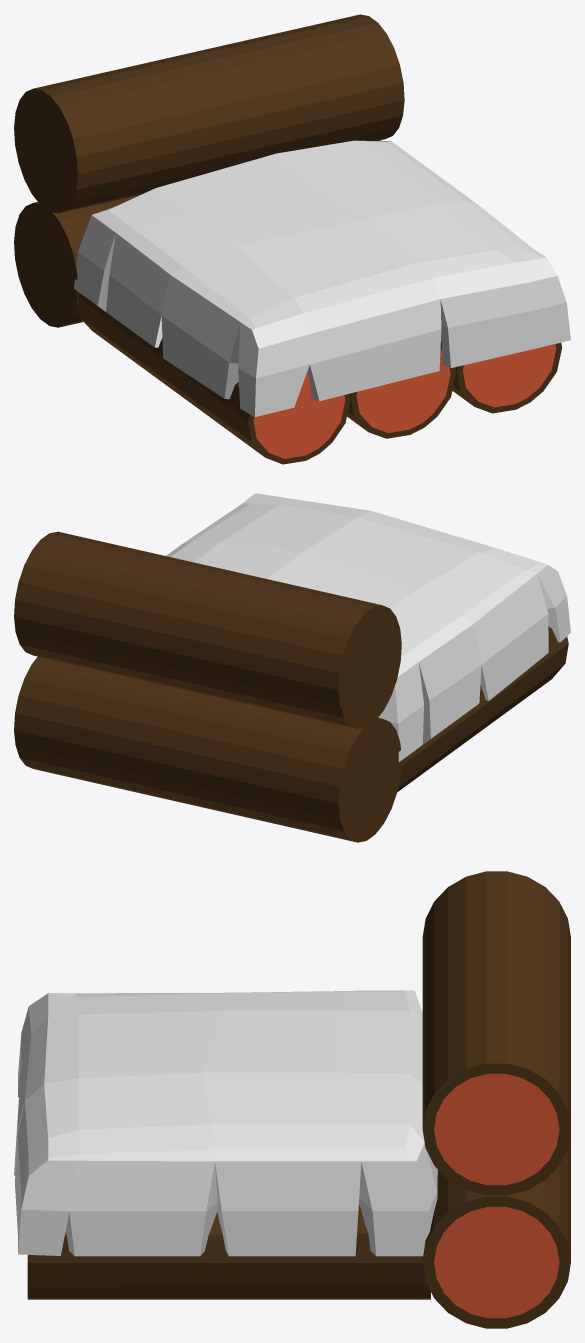
Rendered from bed01.fbx.
3 renders of one model, top to bottom at view 1: azimuth 30°, elevation 25°; view 2: azimuth 150°, elevation 25°; view 3: azimuth 270°, elevation 25°, orthographic. The views are drawn at different scales.
Visible parts, largest first — view 1: Plane.002, Cylinder.001, Cylinder.003, Cylinder.002, Cylinder.004, Cylinder.005; view 2: Cylinder.001, Plane.002, Cylinder.002, Cylinder.003; view 3: Plane.002, Cylinder.001, Cylinder.005, Cylinder.002.
Part boxes in pixels (bbox=[...]): Plane.002: bbox=[74, 140, 570, 416]; Cylinder.001: bbox=[14, 14, 404, 213]; Cylinder.003: bbox=[78, 293, 350, 464]; Cylinder.002: bbox=[14, 140, 380, 327]; Cylinder.004: bbox=[347, 341, 455, 438]; Cylinder.005: bbox=[452, 342, 561, 413]; Cylinder.001: bbox=[14, 531, 401, 728]; Plane.002: bbox=[166, 493, 570, 761]; Cylinder.002: bbox=[14, 656, 401, 842]; Cylinder.003: bbox=[397, 626, 568, 791]; Plane.002: bbox=[14, 990, 437, 1256]; Cylinder.001: bbox=[422, 871, 570, 1195]; Cylinder.005: bbox=[27, 1205, 430, 1299]; Cylinder.002: bbox=[422, 1131, 570, 1328].
Size of the model in its own units: 219 by 149 by 275.
